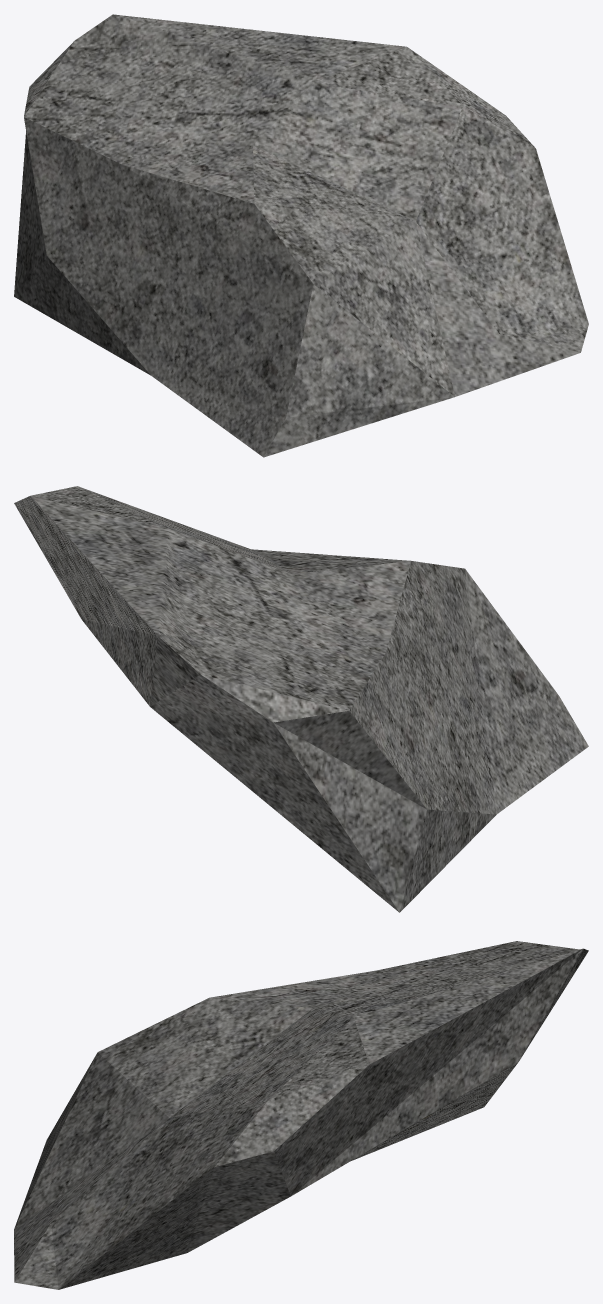
File: roccia_piccola_4.fbx
The picture shows the model from 3 angles, top to bottom: view 1: azimuth 30°, elevation 25°; view 2: azimuth 150°, elevation 25°; view 3: azimuth 270°, elevation 25°; orthographic projection. The views are drawn at different scales.
Parts seen in each view (by area): view 1: roccia_piccola_4; view 2: roccia_piccola_4; view 3: roccia_piccola_4.
Part boxes in pixels (x1=…): roccia_piccola_4: x1=14, y1=14, x2=588, y2=457; roccia_piccola_4: x1=14, y1=486, x2=588, y2=912; roccia_piccola_4: x1=14, y1=941, x2=588, y2=1289.
Bounding box in the file's own units: 19.85 × 11.62 × 22.45.
